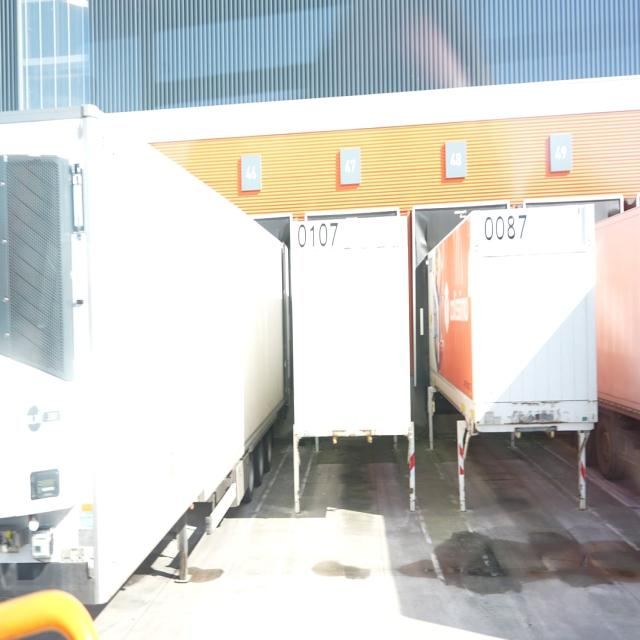Code: (481, 211, 532, 241), (296, 218, 339, 250)
